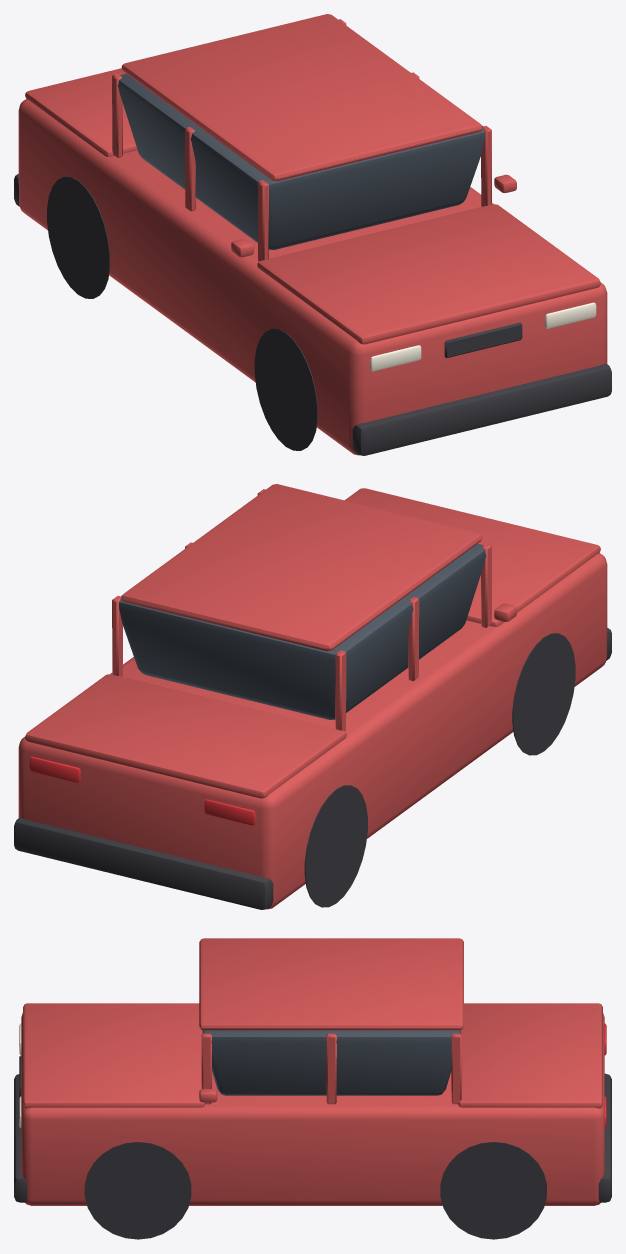
The model's file is car_hatch.glb.
3 renders of one model, top to bottom at view 1: azimuth 30°, elevation 25°; view 2: azimuth 150°, elevation 25°; view 3: azimuth 270°, elevation 25°, orthographic. The views are drawn at different scales.
Visible parts, largest first — view 1: car_hatch; view 2: car_hatch; view 3: car_hatch.
Part boxes in pixels (left/top/right/bottom): car_hatch: left=14, top=14, right=611, bottom=455; car_hatch: left=14, top=484, right=611, bottom=909; car_hatch: left=14, top=938, right=611, bottom=1239.
Size of the model in its own units: 1.84 by 1.51 by 4.
